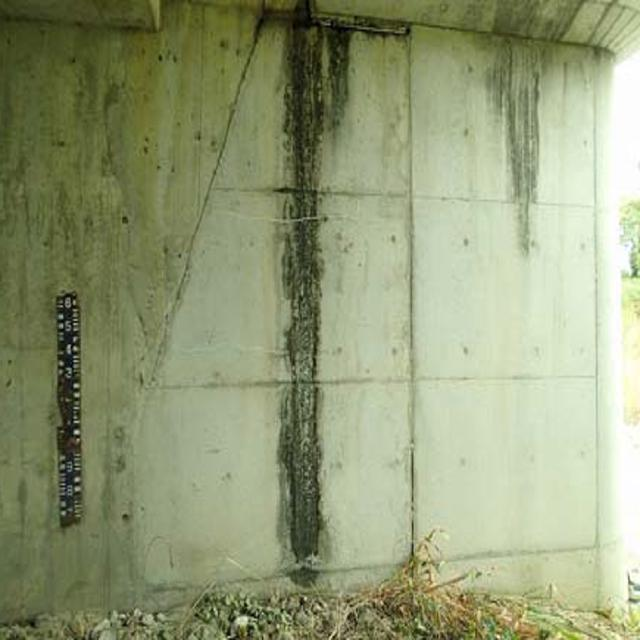leakage: (249, 3, 330, 571)
